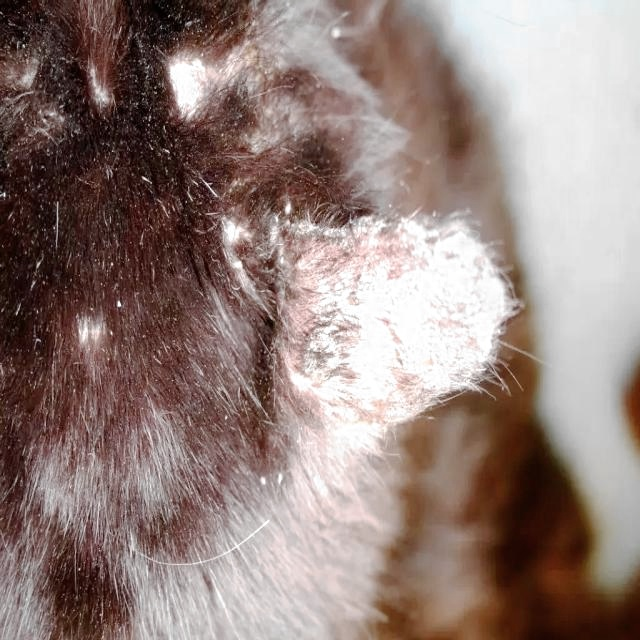ringworm: (301, 247, 434, 397)
